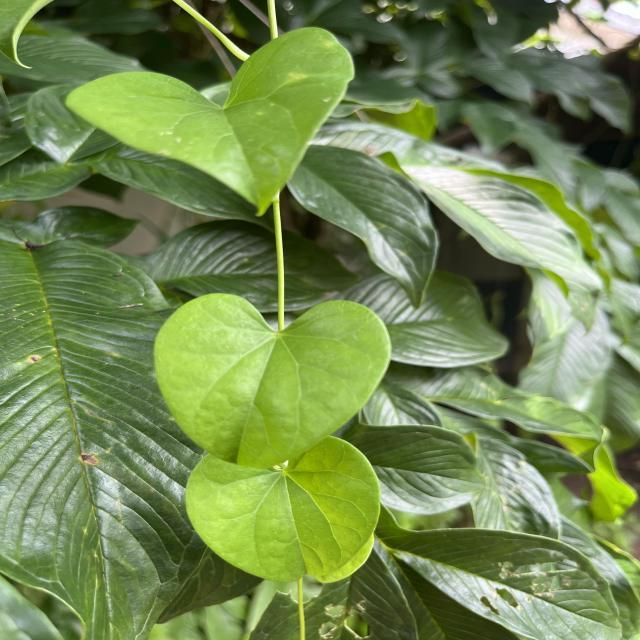Tinospora cordifolia: (61, 24, 359, 220), (150, 288, 396, 472), (180, 430, 384, 586)
